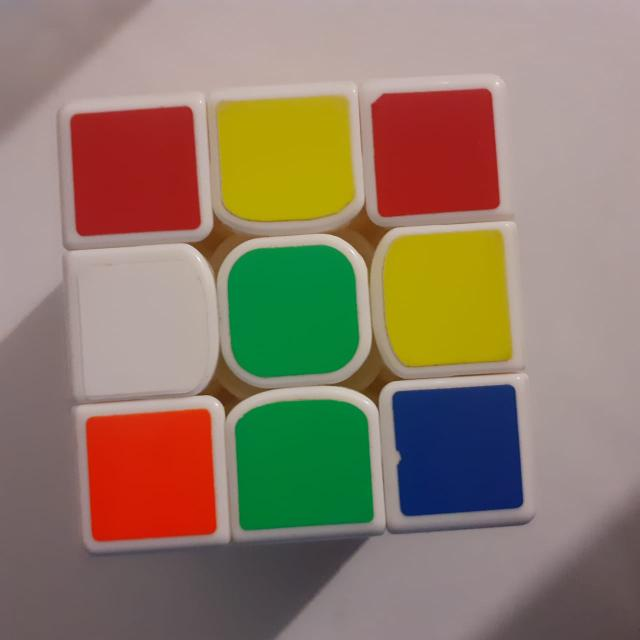Blue: (390, 386, 526, 518)
Green: (228, 395, 382, 535), (220, 245, 372, 383)
Orange: (79, 404, 227, 548)
Red: (362, 82, 508, 226), (62, 102, 210, 238)
White: (68, 256, 215, 394)
Yellow: (214, 94, 362, 226), (377, 230, 519, 366)
